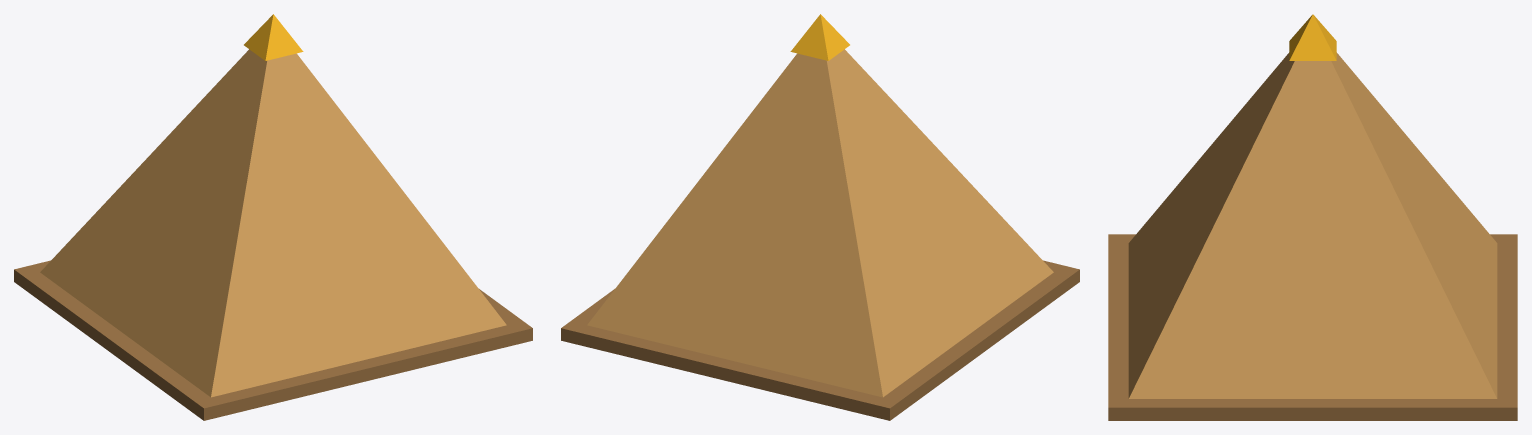
3 views of the same model, side by side, from view 1: azimuth 30°, elevation 25°; view 2: azimuth 150°, elevation 25°; view 3: azimuth 270°, elevation 25° (orthographic). The views are drawn at different scales.
Parts seen in each view (by area): view 1: pyramid; view 2: pyramid; view 3: pyramid.
Boxes of the visible parts, <box> form: pyramid: <box>14,14,532,420</box>; pyramid: <box>561,14,1079,420</box>; pyramid: <box>1108,14,1517,420</box>.
Size of the model in its own units: 1.1 by 0.95 by 1.1.
